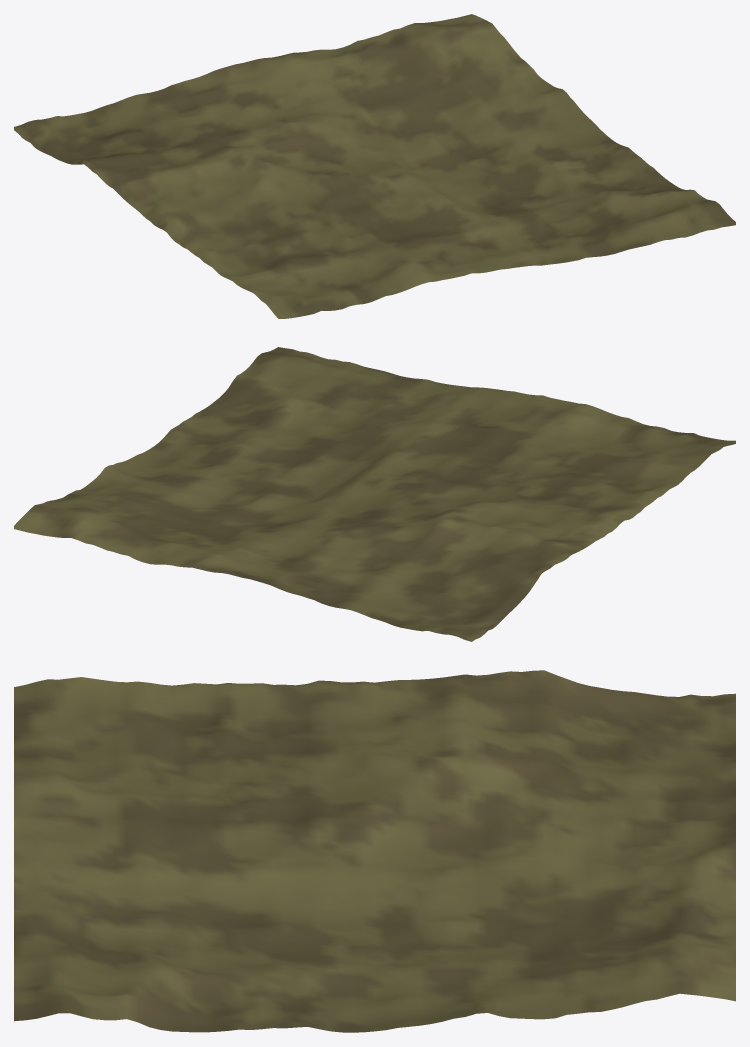
The model's file is land_f_04_00.glb.
3 views of the same model, one above another, from view 1: azimuth 30°, elevation 25°; view 2: azimuth 150°, elevation 25°; view 3: azimuth 270°, elevation 25° (orthographic). The views are drawn at different scales.
Parts seen in each view (by area): view 1: land_f_04_00; view 2: land_f_04_00; view 3: land_f_04_00.
Boxes of the visible parts, x1,y1,x2,y2 form: land_f_04_00: (14,14,735,318); land_f_04_00: (14,347,735,641); land_f_04_00: (14,670,735,1032).
Size of the model in its own units: 3840 by 340 by 3840.
